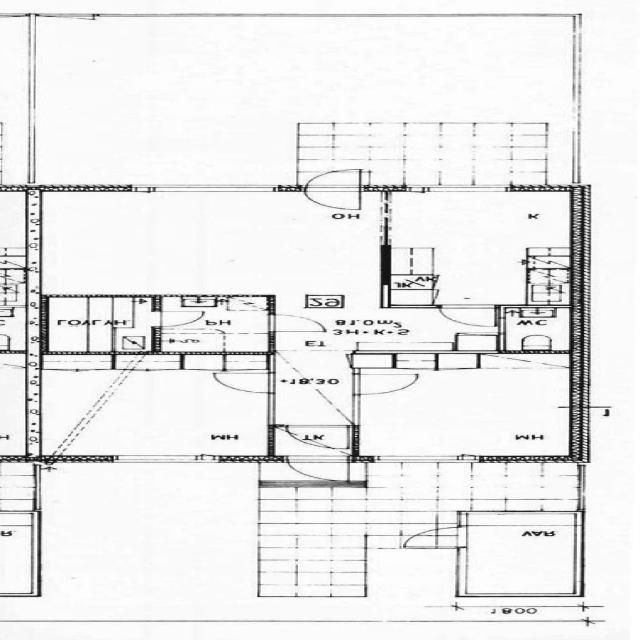door: (302, 168, 366, 212), (281, 453, 357, 483), (348, 371, 427, 396), (435, 304, 502, 329), (397, 526, 466, 550), (211, 370, 277, 394), (264, 312, 329, 333), (149, 310, 209, 328)
window: (145, 183, 281, 196), (105, 452, 228, 466), (408, 185, 518, 195)
zone: (30, 190, 389, 296), (30, 355, 274, 458), (354, 354, 576, 462), (386, 190, 573, 307), (460, 512, 583, 599), (44, 296, 154, 354), (155, 297, 267, 352), (501, 306, 577, 353)
